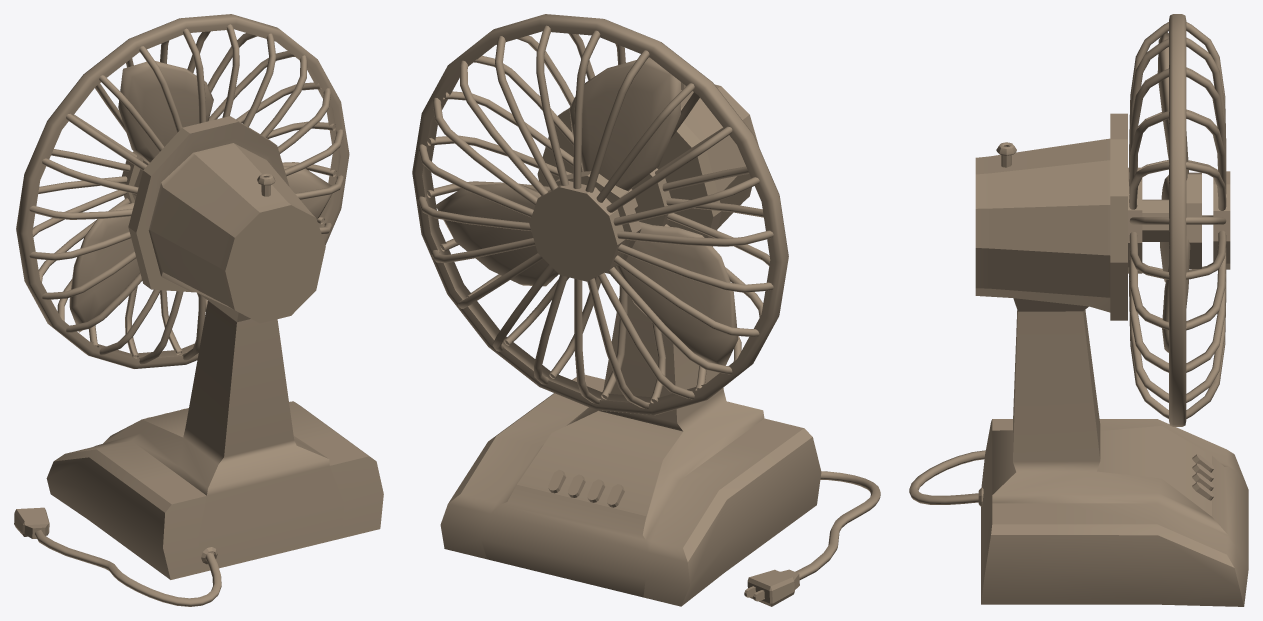
The model's file is fan_body.fbx.
The picture shows the model from 3 angles, left to right: view 1: azimuth 30°, elevation 25°; view 2: azimuth 150°, elevation 25°; view 3: azimuth 270°, elevation 25°; orthographic projection. The views are drawn at different scales.
Visible parts, largest first — view 1: fan_body, fan_pipe2_fanpipe_1, fanpipe_bigring, fan_leaf1, fan_pipe1_fanpipe_1, plug_pipe, plug_body; view 2: fan_body, fan_pipe1_fanpipe_1, fan_leaf1, fanpipe_bigring, fan_pipe2_fanpipe_1, fanpipe_mid1, plug_pipe, plug_body, fan_mid, fanpipe_mid; view 3: fan_body, fanpipe_bigring, fan_pipe1_fanpipe_1, fan_pipe2_fanpipe_1, fan_mid, fan_leaf1, plug_pipe, fanpipe_mid1, fanpipe_mid.
Boxes of the visible parts, x1,y1,x2,y2 form: fan_body: [46, 116, 383, 579]; fan_pipe2_fanpipe_1: [29, 24, 343, 364]; fanpipe_bigring: [16, 14, 349, 368]; fan_leaf1: [69, 61, 332, 332]; fan_pipe1_fanpipe_1: [32, 31, 336, 358]; plug_pipe: [35, 530, 221, 606]; plug_body: [14, 507, 49, 538]; fan_body: [440, 84, 821, 606]; fan_pipe1_fanpipe_1: [418, 25, 773, 408]; fan_leaf1: [435, 57, 738, 365]; fanpipe_bigring: [412, 14, 788, 415]; fan_pipe2_fanpipe_1: [427, 33, 770, 403]; fanpipe_mid1: [529, 181, 625, 281]; plug_pipe: [795, 471, 880, 579]; plug_body: [747, 569, 799, 606]; fan_mid: [555, 171, 641, 266]; fanpipe_mid: [581, 165, 670, 226]; fan_body: [975, 113, 1248, 606]; fanpipe_bigring: [1169, 14, 1186, 426]; fan_pipe1_fanpipe_1: [1186, 22, 1226, 418]; fan_pipe2_fanpipe_1: [1129, 22, 1169, 418]; fan_mid: [1142, 172, 1201, 268]; fan_leaf1: [1157, 32, 1190, 352]; plug_pipe: [909, 450, 985, 504]; fanpipe_mid1: [1213, 171, 1230, 269]; fanpipe_mid: [1128, 167, 1142, 273].
Size of the model in its own units: 70.34 by 95.92 by 56.64.
